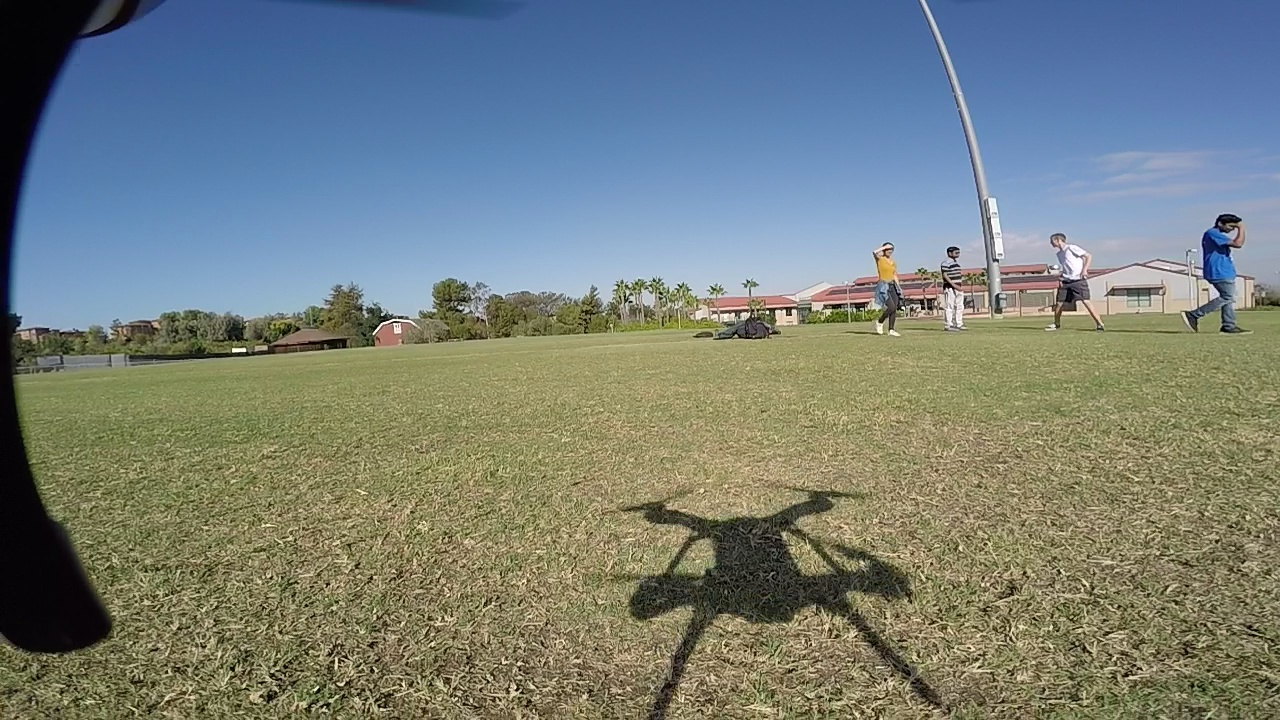person: (1185, 205, 1249, 329), (1049, 224, 1111, 325), (870, 231, 902, 328), (937, 233, 968, 323)
